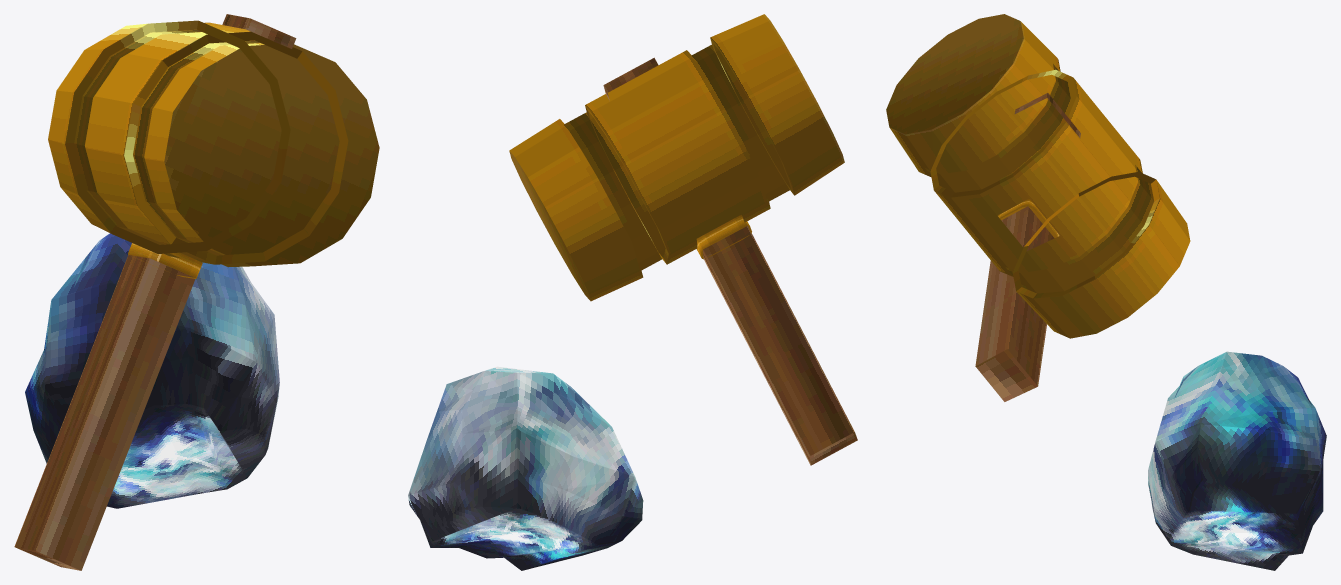
Rendered from ps2_save-icons_kanuchikurokitsubasanoshou.glb.
3 views of the same model, side by side, from view 1: azimuth 30°, elevation 25°; view 2: azimuth 150°, elevation 25°; view 3: azimuth 270°, elevation 25° (orthographic). The views are drawn at different scales.
Parts seen in each view (by area): view 1: MC.ico; view 2: MC.ico; view 3: MC.ico.
Part boxes in pixels (<box>): MC.ico: <box>14,14,379,570</box>; MC.ico: <box>408,14,857,570</box>; MC.ico: <box>886,14,1326,570</box>.
Bounding box in the file's own units: 2.12 × 2.95 × 2.55.
Materials: 1 (1 with a texture image).
